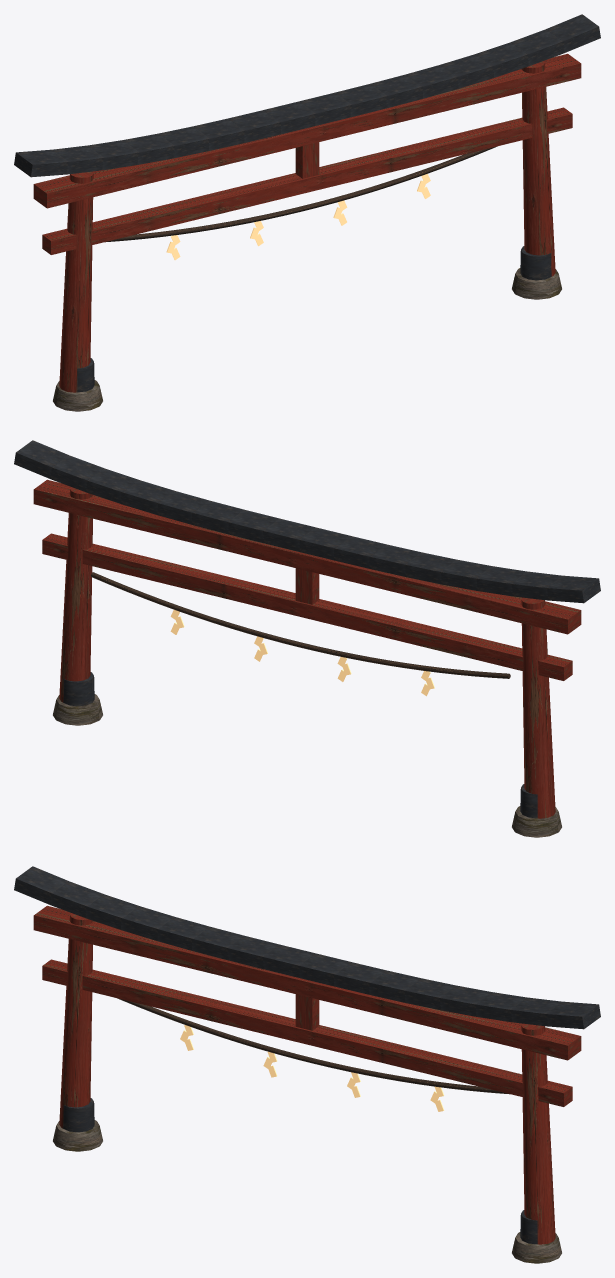
Rendered from sakura-torii.glb.
3 views of the same model, one above another, from view 1: azimuth 30°, elevation 25°; view 2: azimuth 150°, elevation 25°; view 3: azimuth 330°, elevation 25° (orthographic).
Parts seen in each view (by area): view 1: sakura-torii-sakura-red, sakura-torii-sakura-tile, sakura-torii-sakura-wood, sakura-torii-sakura-stone, sakura-torii-sakura-paper; view 2: sakura-torii-sakura-red, sakura-torii-sakura-tile, sakura-torii-sakura-wood, sakura-torii-sakura-stone, sakura-torii-sakura-paper; view 3: sakura-torii-sakura-red, sakura-torii-sakura-tile, sakura-torii-sakura-wood, sakura-torii-sakura-stone, sakura-torii-sakura-paper.
Boxes of the visible parts, box(x1,y1,x2,y2) form: sakura-torii-sakura-red: box(33, 53, 581, 392); sakura-torii-sakura-tile: box(14, 14, 600, 392); sakura-torii-sakura-wood: box(105, 146, 497, 242); sakura-torii-sakura-stone: box(53, 268, 561, 411); sakura-torii-sakura-paper: box(166, 174, 430, 260); sakura-torii-sakura-red: box(33, 479, 581, 818); sakura-torii-sakura-tile: box(14, 440, 600, 818); sakura-torii-sakura-wood: box(91, 572, 510, 678); sakura-torii-sakura-stone: box(53, 694, 561, 837); sakura-torii-sakura-paper: box(170, 609, 434, 696); sakura-torii-sakura-red: box(33, 905, 581, 1244); sakura-torii-sakura-tile: box(14, 866, 600, 1244); sakura-torii-sakura-wood: box(117, 998, 509, 1094); sakura-torii-sakura-stone: box(53, 1120, 561, 1263); sakura-torii-sakura-paper: box(180, 1025, 444, 1111).
Size of the model in its own units: 13.66 by 5.86 by 1.05.
Materials: 5 (4 with a texture image).
